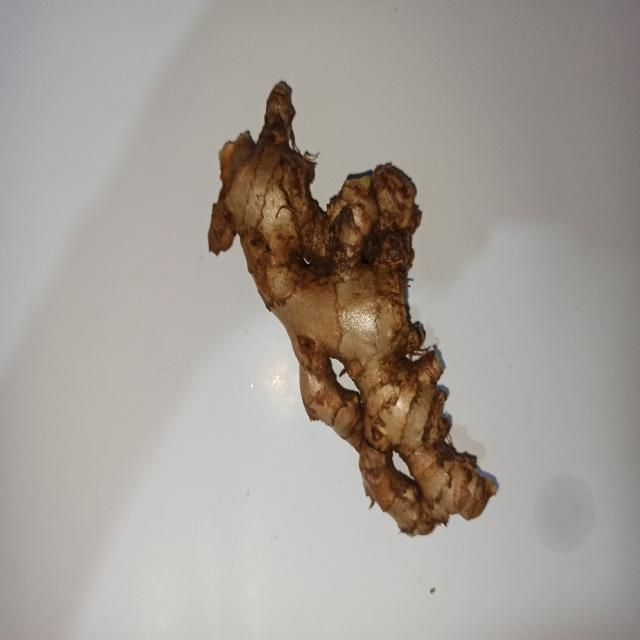ginger: (209, 76, 497, 537)
